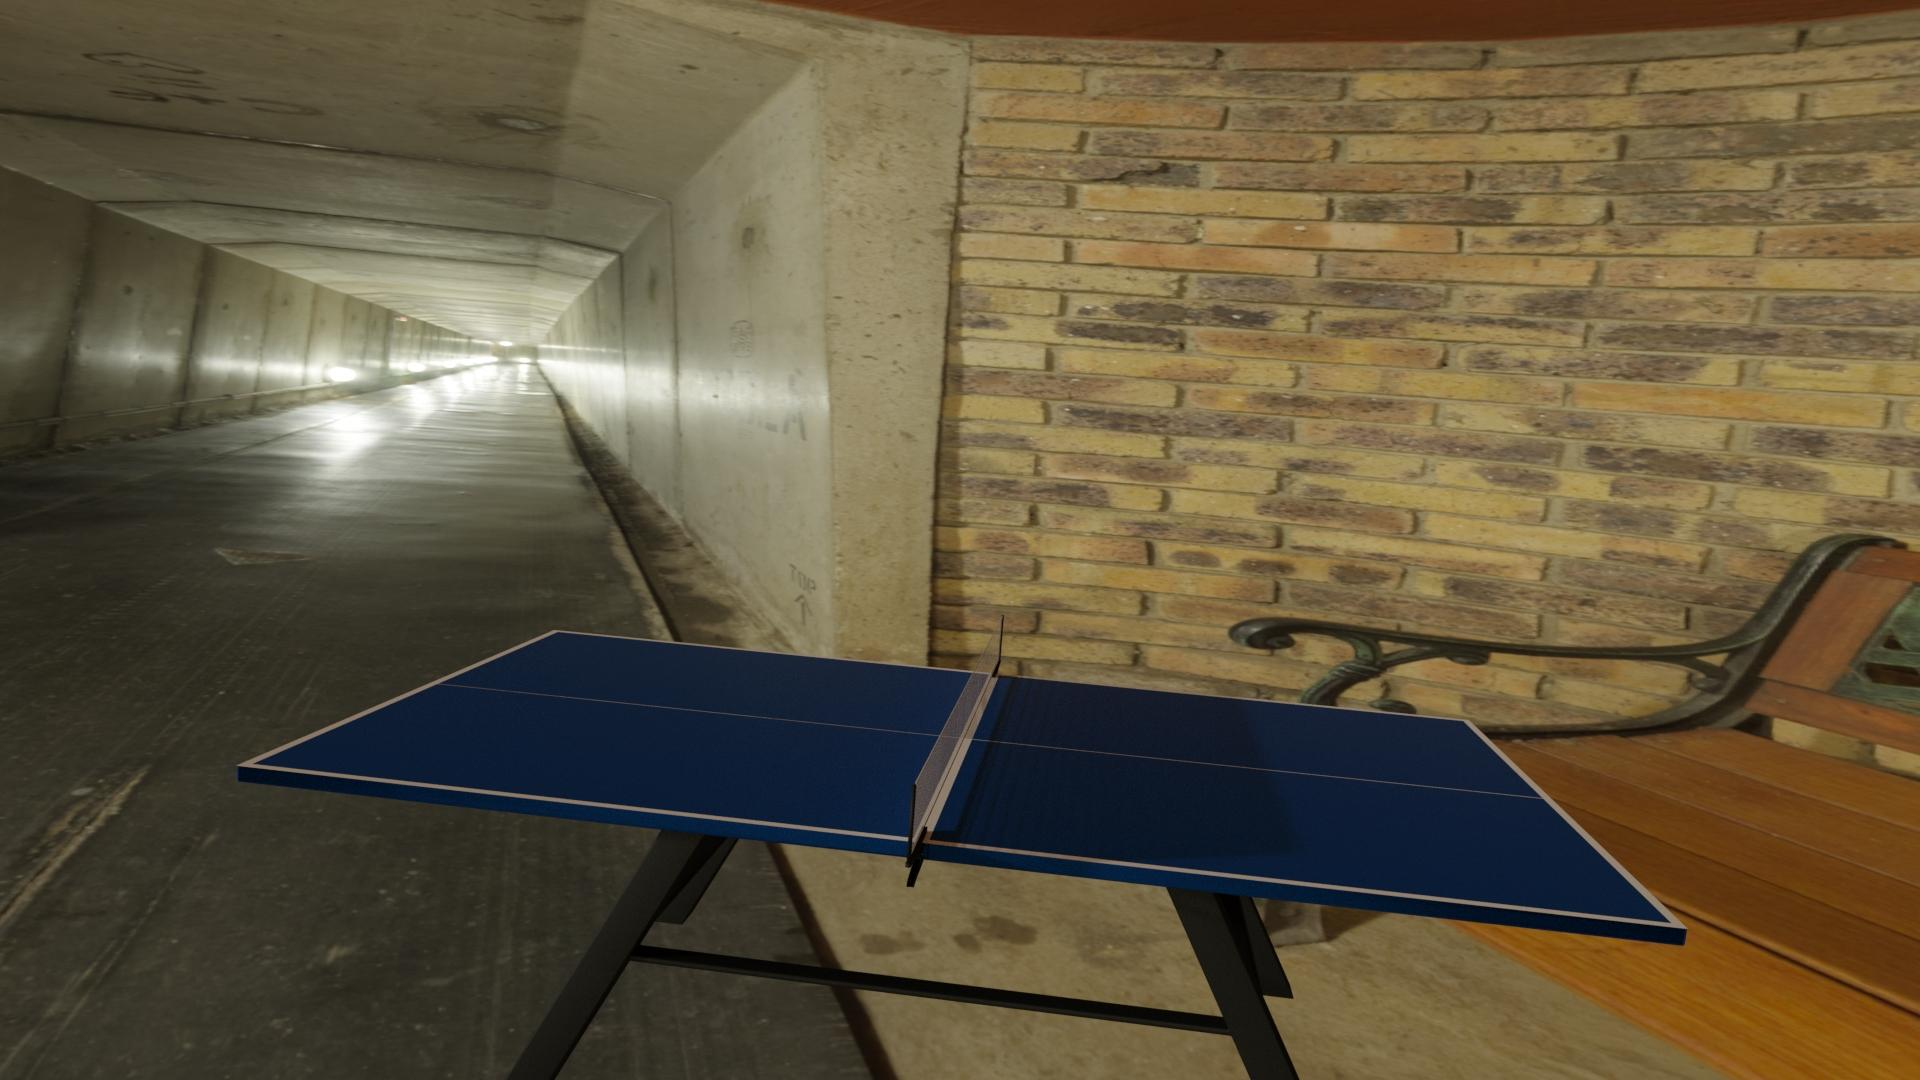table: (252, 632, 1672, 923)
